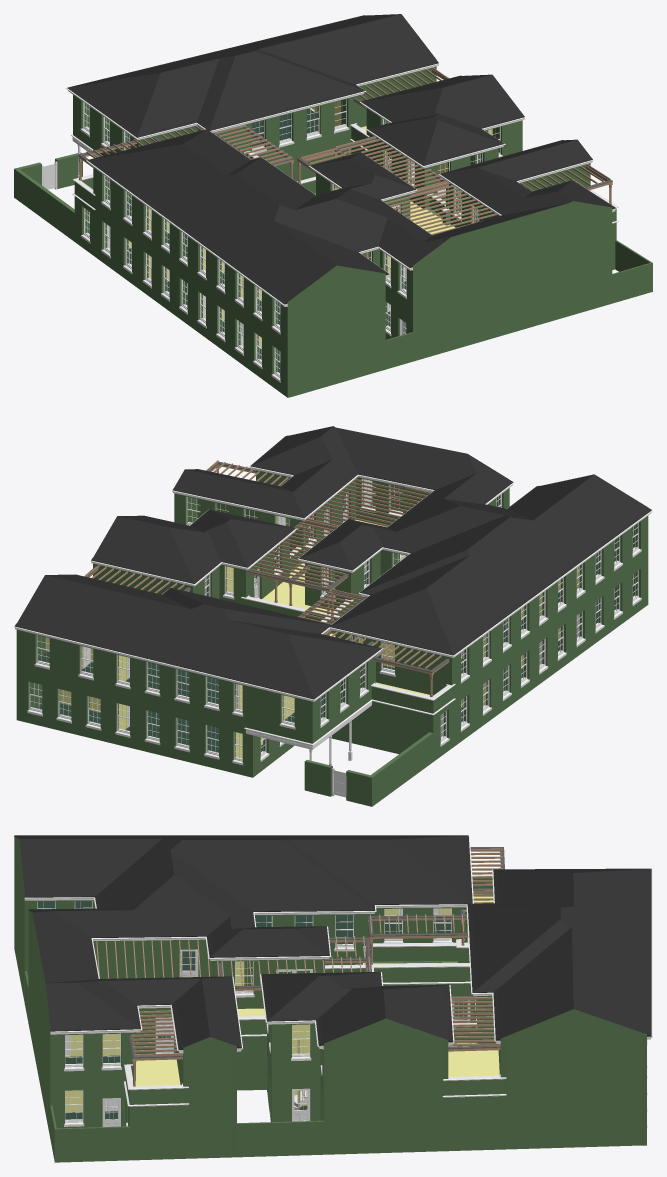
Rendered from evolved-3M-nols-3.dom.dae.
The picture shows the model from 3 angles, top to bottom: view 1: azimuth 30°, elevation 25°; view 2: azimuth 150°, elevation 25°; view 3: azimuth 270°, elevation 25°; orthographic projection. The views are drawn at different scales.
Visible parts, largest first — view 1: Mesh593, Mesh608, Mesh609, Mesh596, Mesh607, Mesh590, Mesh393, Mesh929, Mesh395, Mesh598, Mesh610, Mesh796 (+52 smaller); view 2: Mesh607, Mesh608, Mesh593, Mesh590, Mesh596, Mesh598, Mesh610, Mesh796, Mesh609, Mesh603, Mesh605, Mesh336 (+57 smaller); view 3: Mesh608, Mesh607, Mesh596, Mesh591, Mesh590, Mesh593, Mesh388, Mesh609, Mesh610, Mesh391, Mesh598, Mesh389 (+66 smaller).
Boxes of the visible parts, x1,y1,x2,y2 form: Mesh593: (93, 130, 248, 242); Mesh608: (186, 14, 436, 118); Mesh609: (184, 38, 358, 126); Mesh596: (192, 186, 420, 275); Mesh607: (73, 15, 379, 133); Mesh590: (94, 138, 385, 301); Mesh393: (452, 268, 567, 350); Mesh929: (293, 274, 381, 348); Mesh395: (293, 322, 381, 396); Mesh598: (390, 193, 611, 265); Mesh610: (367, 74, 522, 126); Mesh796: (87, 129, 563, 304); Mesh607: (17, 581, 375, 695); Mesh608: (17, 574, 316, 680); Mesh593: (336, 553, 567, 650); Mesh590: (353, 474, 648, 651); Mesh596: (379, 494, 611, 577); Mesh598: (275, 426, 509, 496); Mesh610: (93, 516, 214, 579); Mesh796: (173, 470, 651, 655); Mesh609: (106, 589, 325, 679); Mesh603: (256, 426, 355, 481); Mesh605: (175, 469, 323, 513); Mesh336: (368, 701, 433, 753); Mesh608: (498, 902, 646, 1038); Mesh607: (498, 869, 646, 1038); Mesh596: (95, 836, 250, 933); Mesh591: (173, 838, 369, 907); Mesh590: (14, 836, 466, 893); Mesh593: (221, 836, 467, 900); Mesh388: (377, 1095, 505, 1153); Mesh609: (472, 904, 646, 988); Mesh610: (320, 985, 448, 1043); Mesh391: (134, 1102, 231, 1159); Mesh598: (28, 909, 101, 1027); Mesh389: (506, 1091, 581, 1149).
Size of the model in its own units: 25.3 by 31.3 by 8.05.
